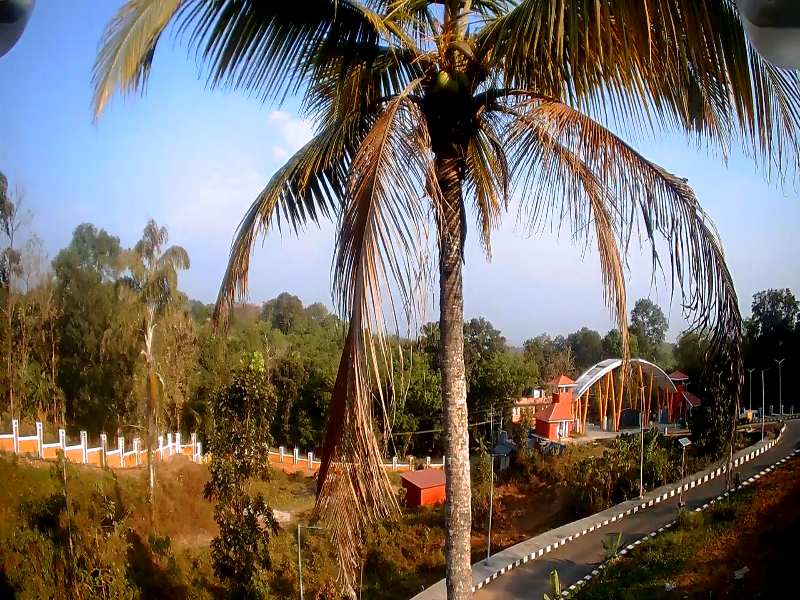coconut: (434, 72, 456, 94)
